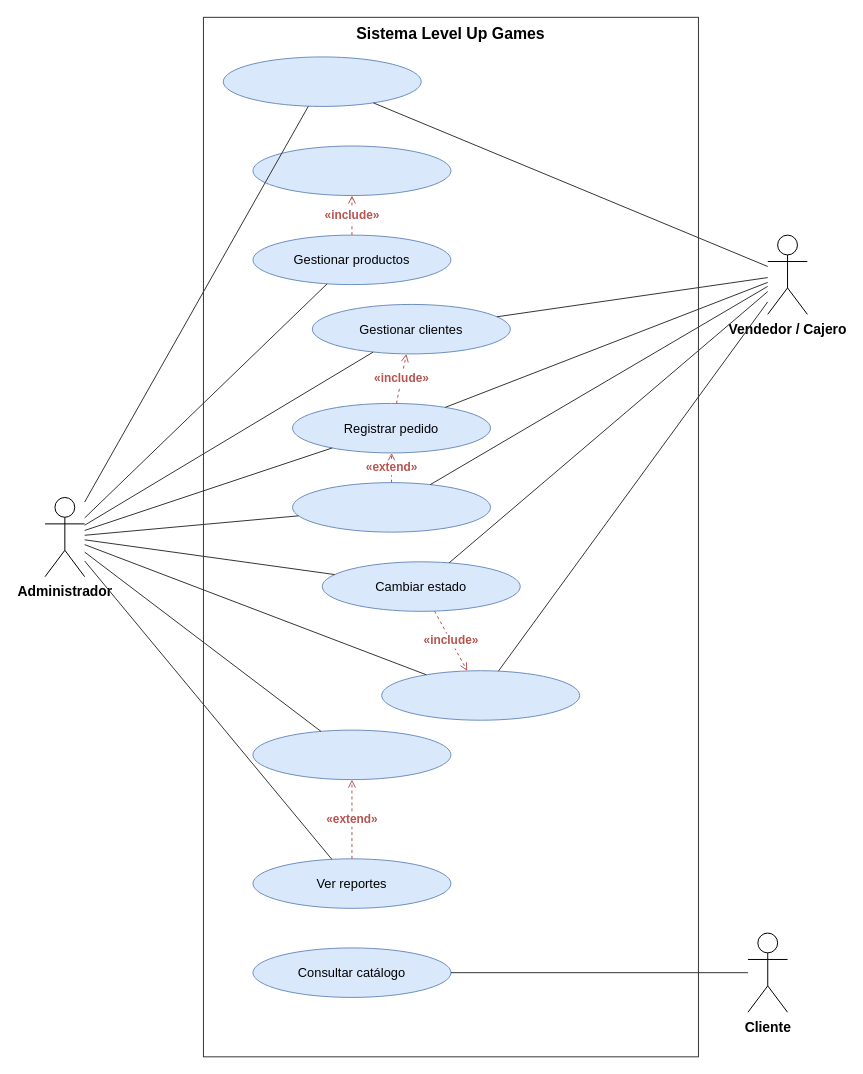
The diagram is 863 pixels wide and 1074 high, and some of its shapes have lost their labels. Here are the shapes that lost their labels. From the top down, the centre of each, then its label:
the point at 321,81: Iniciar sesión
the point at 351,170: Gestionar categorías
the point at 391,507: Cancelar pedido
the point at 480,695: Cobrar pedido
the point at 351,754: Ver panel
